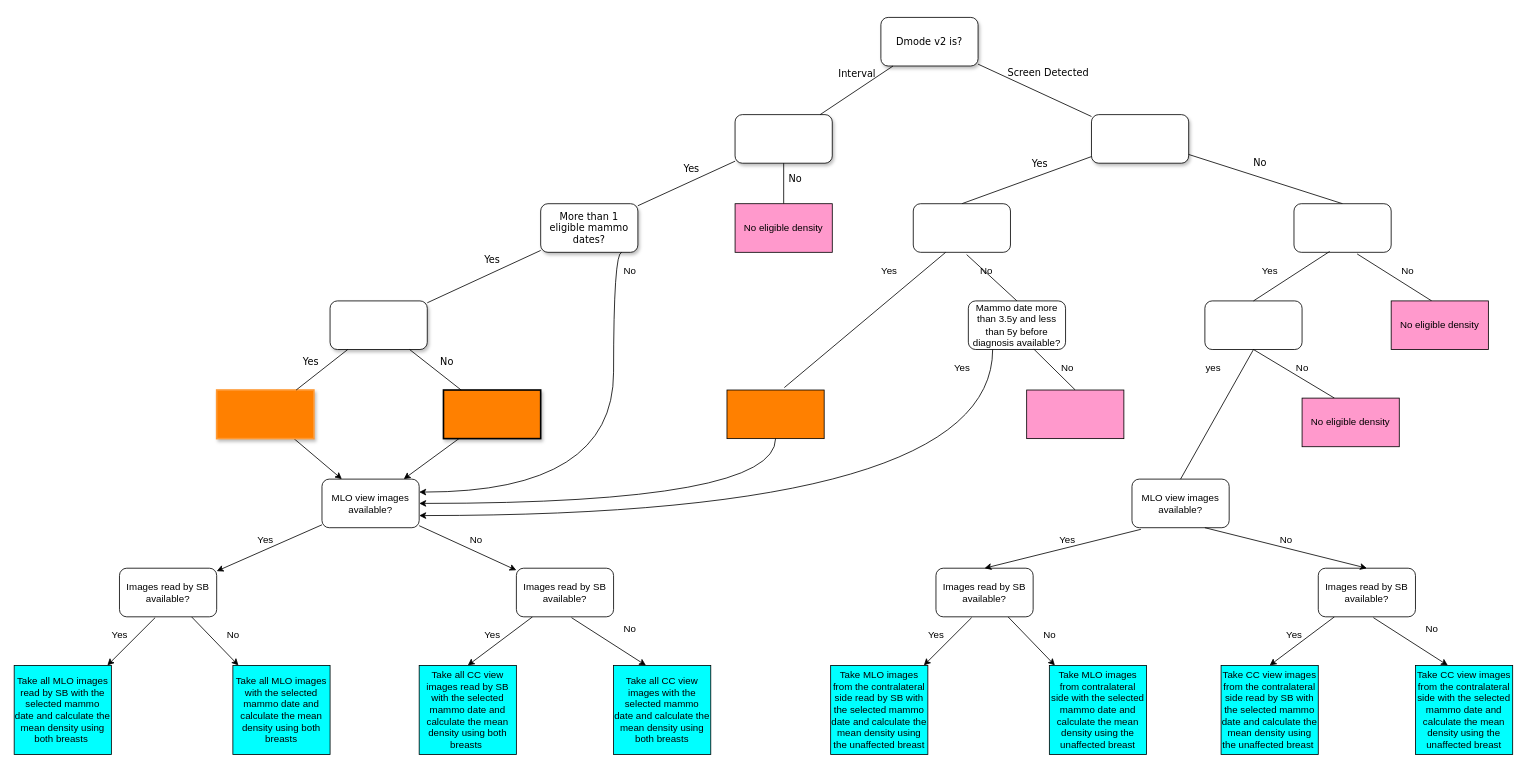
Some shapes in this 1527 by 769 pixel diagram are drawn without their labels. The shapes that lost their labels are listed below. From the top down, each one's centre as x and y in pixels, then its label:
pixel 784 140: Mammo date between 3m to 5y before diagnosis?
pixel 1140 140: Mammo with a date before diagnosis available?
pixel 961 227: Mammo dates 2y to 3.5y before diagnosis/dm2 screen date?
pixel 1342 227: Diagnostic mamo available?
pixel 379 326: Screen date around the time of mammo? (-30 to 10 days)
pixel 1253 325: Contralateral site available?
pixel 265 415: Select the rows with the mammo date closest to the Screen date
pixel 492 415: Select the rows with the mammo date closest before Screen date
pixel 775 414: Only one mammo date should be available but if more dates > discussion
pixel 1075 414: No eligible density (those with mammo 2y or less before dg)
